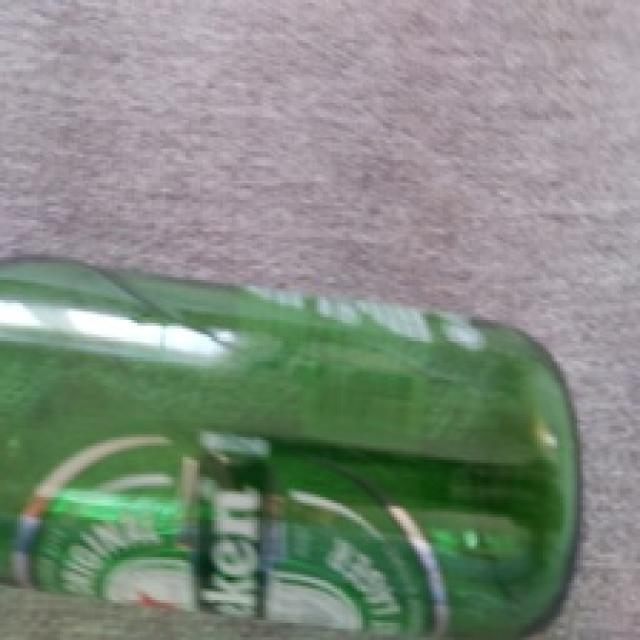Glass: (0, 257, 586, 640)
